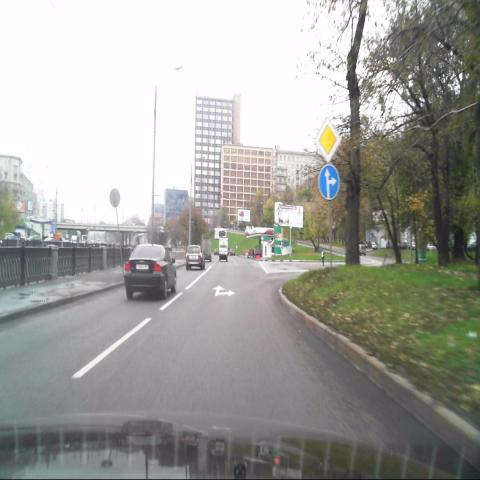4_1_4: (318, 163, 340, 201)
